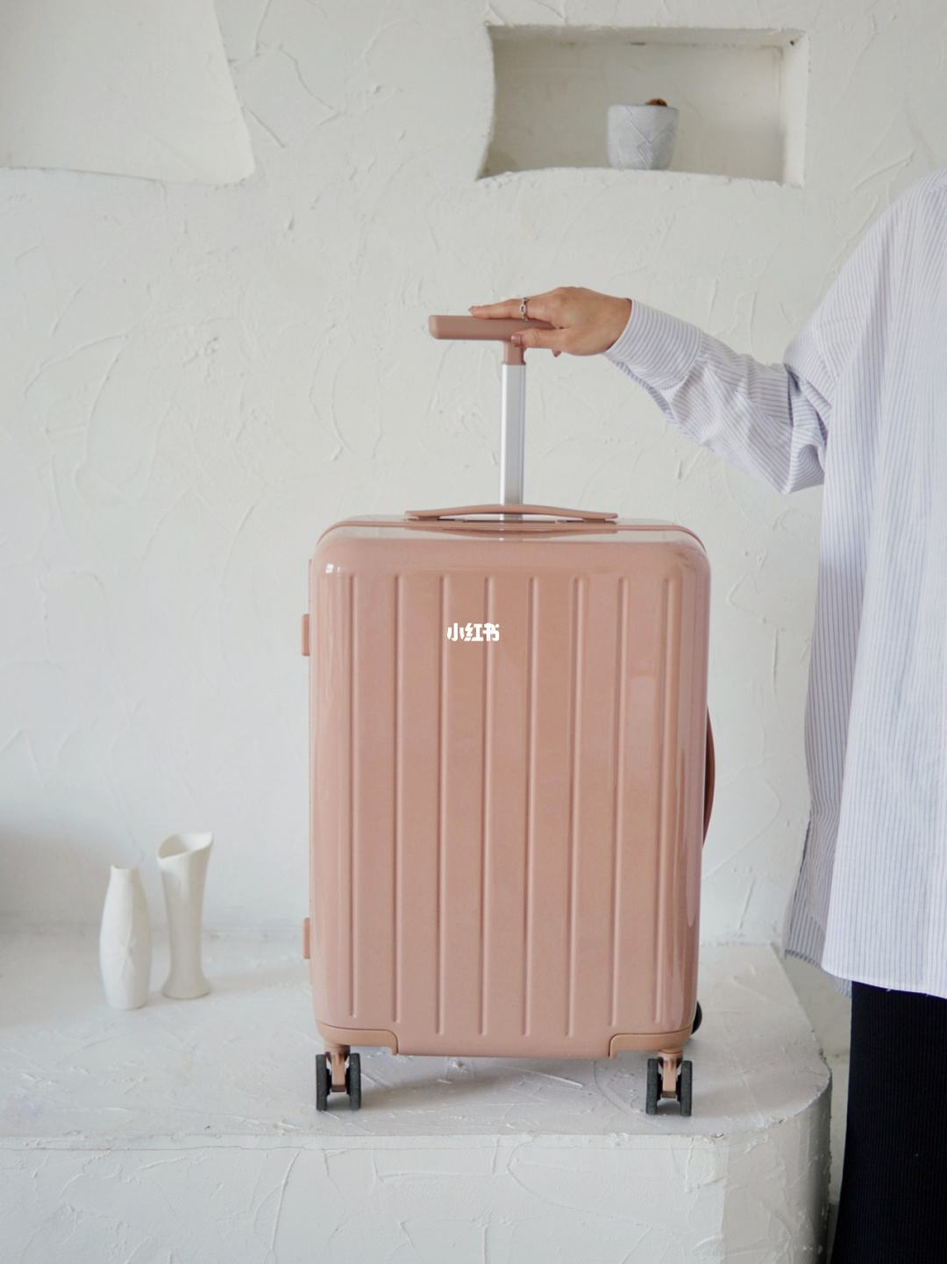box: (309, 516, 711, 1056)
handle: (405, 504, 619, 524), (703, 707, 716, 849)
wheel: (644, 1058, 693, 1118), (313, 1052, 362, 1111)
